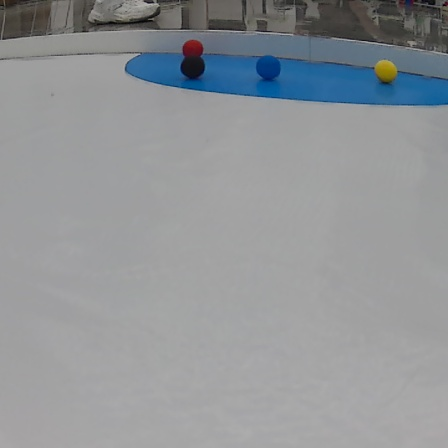black: (179, 55, 208, 81)
blue: (254, 55, 283, 79)
blue_base: (126, 49, 447, 110)
red: (184, 37, 204, 56)
yellow: (373, 56, 402, 83)
